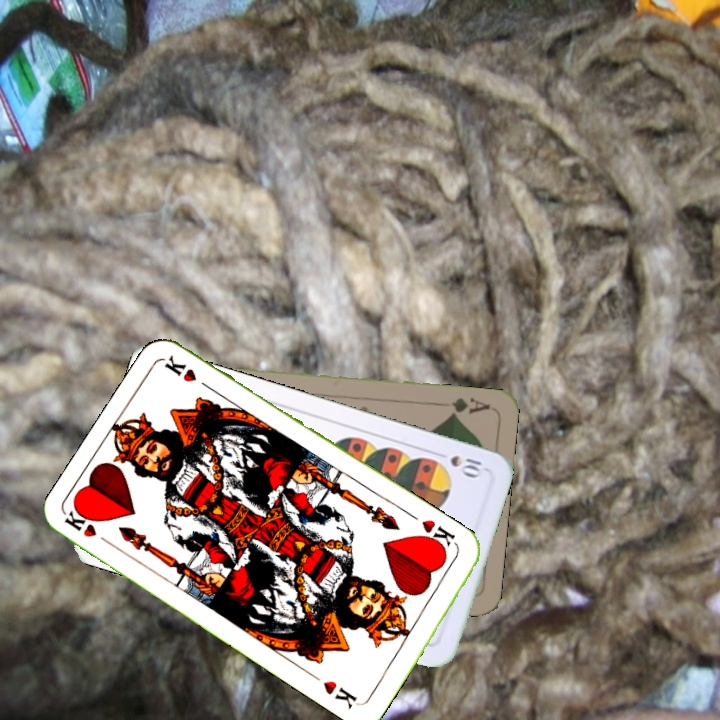GA: (434, 393, 492, 419)
HK: (61, 504, 116, 550), (416, 515, 458, 554)
S10: (431, 447, 488, 480)
